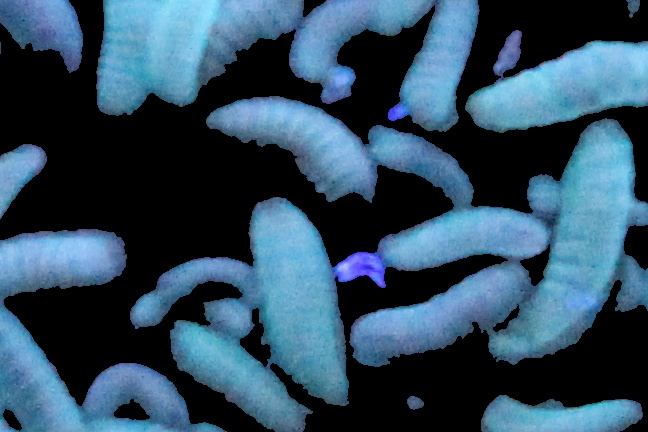larvae: (484, 110, 638, 368), (353, 260, 546, 373), (252, 194, 356, 403), (205, 90, 380, 202), (468, 39, 648, 139), (170, 321, 304, 432), (377, 204, 558, 270), (1, 215, 132, 304), (1, 305, 80, 429), (414, 1, 480, 136), (477, 381, 647, 432), (369, 129, 479, 205), (96, 1, 158, 127), (297, 1, 377, 78), (151, 1, 211, 100), (86, 363, 186, 422), (1, 129, 41, 269)
